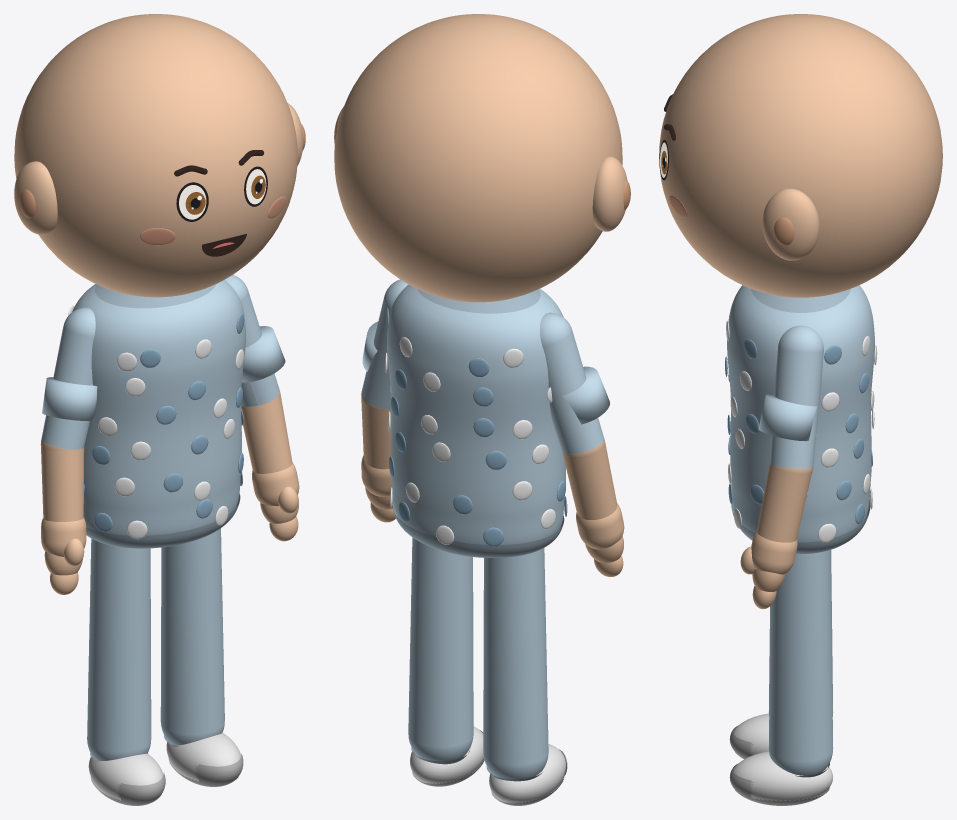
The model's file is hoofdpersonage_ziekenhuis.glb.
3 views of the same model, side by side, from view 1: azimuth 30°, elevation 25°; view 2: azimuth 150°, elevation 25°; view 3: azimuth 270°, elevation 25° (orthographic).
Visible parts, largest first — view 1: hoofdpersonage_ziekenhuis_hoofd, hoofdpersonage_ziekenhuis_romp, hoofdpersonage_ziekenhuis_been_R, hoofdpersonage_ziekenhuis_been_L, hoofdpersonage_ziekenhuis, hoofdpersonage_ziekenhuis_bovenarm_R, hoofdpersonage_ziekenhuis_onderarm_R, hoofdpersonage_ziekenhuis_onderarm_L, hoofdpersonage_ziekenhuis_oor_R, hoofdpersonage_ziekenhuis_schoen_R, hoofdpersonage_ziekenhuis_schoen_L, hoofdpersonage_ziekenhuis_mouwzoom_R (+10 smaller); view 2: hoofdpersonage_ziekenhuis_hoofd, hoofdpersonage_ziekenhuis_romp, hoofdpersonage_ziekenhuis_been_R, hoofdpersonage_ziekenhuis_been_L, hoofdpersonage_ziekenhuis, hoofdpersonage_ziekenhuis_bovenarm_R, hoofdpersonage_ziekenhuis_onderarm_R, hoofdpersonage_ziekenhuis_bovenarm_L, hoofdpersonage_ziekenhuis_oor_R, hoofdpersonage_ziekenhuis_schoen_R, hoofdpersonage_ziekenhuis_romp_boord, hoofdpersonage_ziekenhuis_schoen_L (+6 smaller); view 3: hoofdpersonage_ziekenhuis_hoofd, hoofdpersonage_ziekenhuis_romp, hoofdpersonage_ziekenhuis_been_L, hoofdpersonage_ziekenhuis_bovenarm_L, hoofdpersonage_ziekenhuis, hoofdpersonage_ziekenhuis_onderarm_L, hoofdpersonage_ziekenhuis_schoen_L, hoofdpersonage_ziekenhuis_oor_L, hoofdpersonage_ziekenhuis_mouwzoom_L, hoofdpersonage_ziekenhuis_manchet_L, hoofdpersonage_ziekenhuis_romp_halsboord, hoofdpersonage_ziekenhuis_schoen_R (+2 smaller).
Boxes of the visible parts, x1,y1,x2,y2 form: hoofdpersonage_ziekenhuis_hoofd: (14, 14, 297, 297); hoofdpersonage_ziekenhuis_romp: (72, 280, 245, 535); hoofdpersonage_ziekenhuis_been_R: (87, 538, 151, 760); hoofdpersonage_ziekenhuis_been_L: (160, 528, 224, 745); hoofdpersonage_ziekenhuis: (68, 305, 244, 539); hoofdpersonage_ziekenhuis_bovenarm_R: (41, 307, 95, 450); hoofdpersonage_ziekenhuis_onderarm_R: (41, 443, 84, 521); hoofdpersonage_ziekenhuis_onderarm_L: (241, 393, 292, 473); hoofdpersonage_ziekenhuis_oor_R: (14, 161, 57, 234); hoofdpersonage_ziekenhuis_schoen_R: (88, 753, 163, 800); hoofdpersonage_ziekenhuis_schoen_L: (166, 732, 241, 781); hoofdpersonage_ziekenhuis_mouwzoom_R: (42, 377, 97, 420); hoofdpersonage_ziekenhuis_hoofd: (334, 14, 622, 302); hoofdpersonage_ziekenhuis_romp: (387, 284, 565, 544); hoofdpersonage_ziekenhuis_been_R: (483, 548, 548, 779); hoofdpersonage_ziekenhuis_been_L: (408, 537, 473, 761); hoofdpersonage_ziekenhuis: (385, 307, 567, 546); hoofdpersonage_ziekenhuis_bovenarm_R: (540, 312, 604, 457); hoofdpersonage_ziekenhuis_onderarm_R: (562, 442, 617, 519); hoofdpersonage_ziekenhuis_bovenarm_L: (361, 279, 408, 409); hoofdpersonage_ziekenhuis_oor_R: (592, 156, 627, 231); hoofdpersonage_ziekenhuis_schoen_R: (489, 744, 566, 803); hoofdpersonage_ziekenhuis_romp_boord: (392, 502, 564, 557); hoofdpersonage_ziekenhuis_schoen_L: (410, 726, 483, 783); hoofdpersonage_ziekenhuis_hoofd: (659, 14, 942, 297); hoofdpersonage_ziekenhuis_romp: (727, 285, 874, 542); hoofdpersonage_ziekenhuis_been_L: (768, 550, 833, 775); hoofdpersonage_ziekenhuis_bovenarm_L: (770, 325, 823, 474); hoofdpersonage_ziekenhuis: (725, 320, 877, 542); hoofdpersonage_ziekenhuis_onderarm_L: (757, 463, 812, 542); hoofdpersonage_ziekenhuis_schoen_L: (732, 751, 832, 801); hoofdpersonage_ziekenhuis_oor_L: (762, 188, 819, 260); hoofdpersonage_ziekenhuis_mouwzoom_L: (758, 393, 817, 441); hoofdpersonage_ziekenhuis_manchet_L: (751, 531, 797, 574); hoofdpersonage_ziekenhuis_romp_halsboord: (751, 289, 850, 312); hoofdpersonage_ziekenhuis_schoen_R: (732, 713, 769, 756).
Size of the model in its own units: 0.6887 by 1.76 by 0.6.
